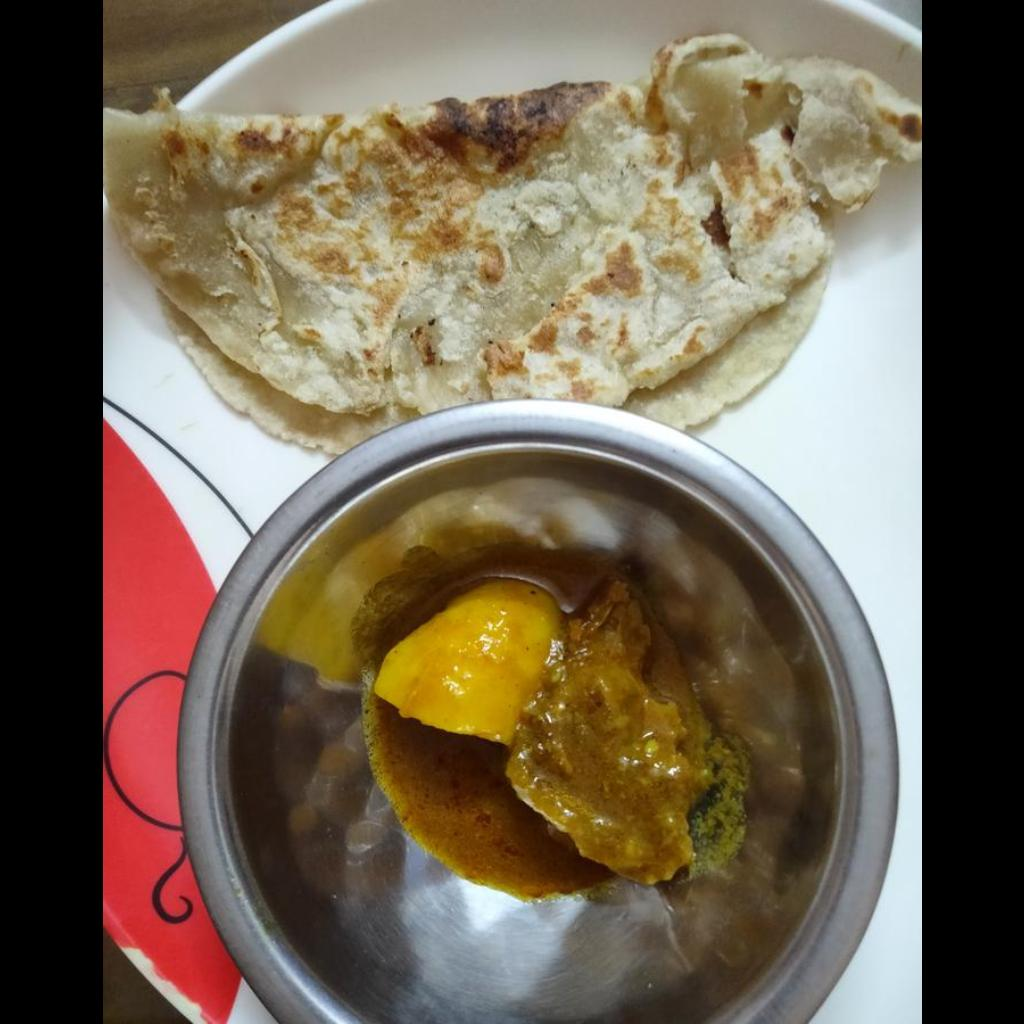beef: (493, 587, 710, 881)
potato: (373, 581, 558, 743)
ruti: (102, 32, 920, 453)
